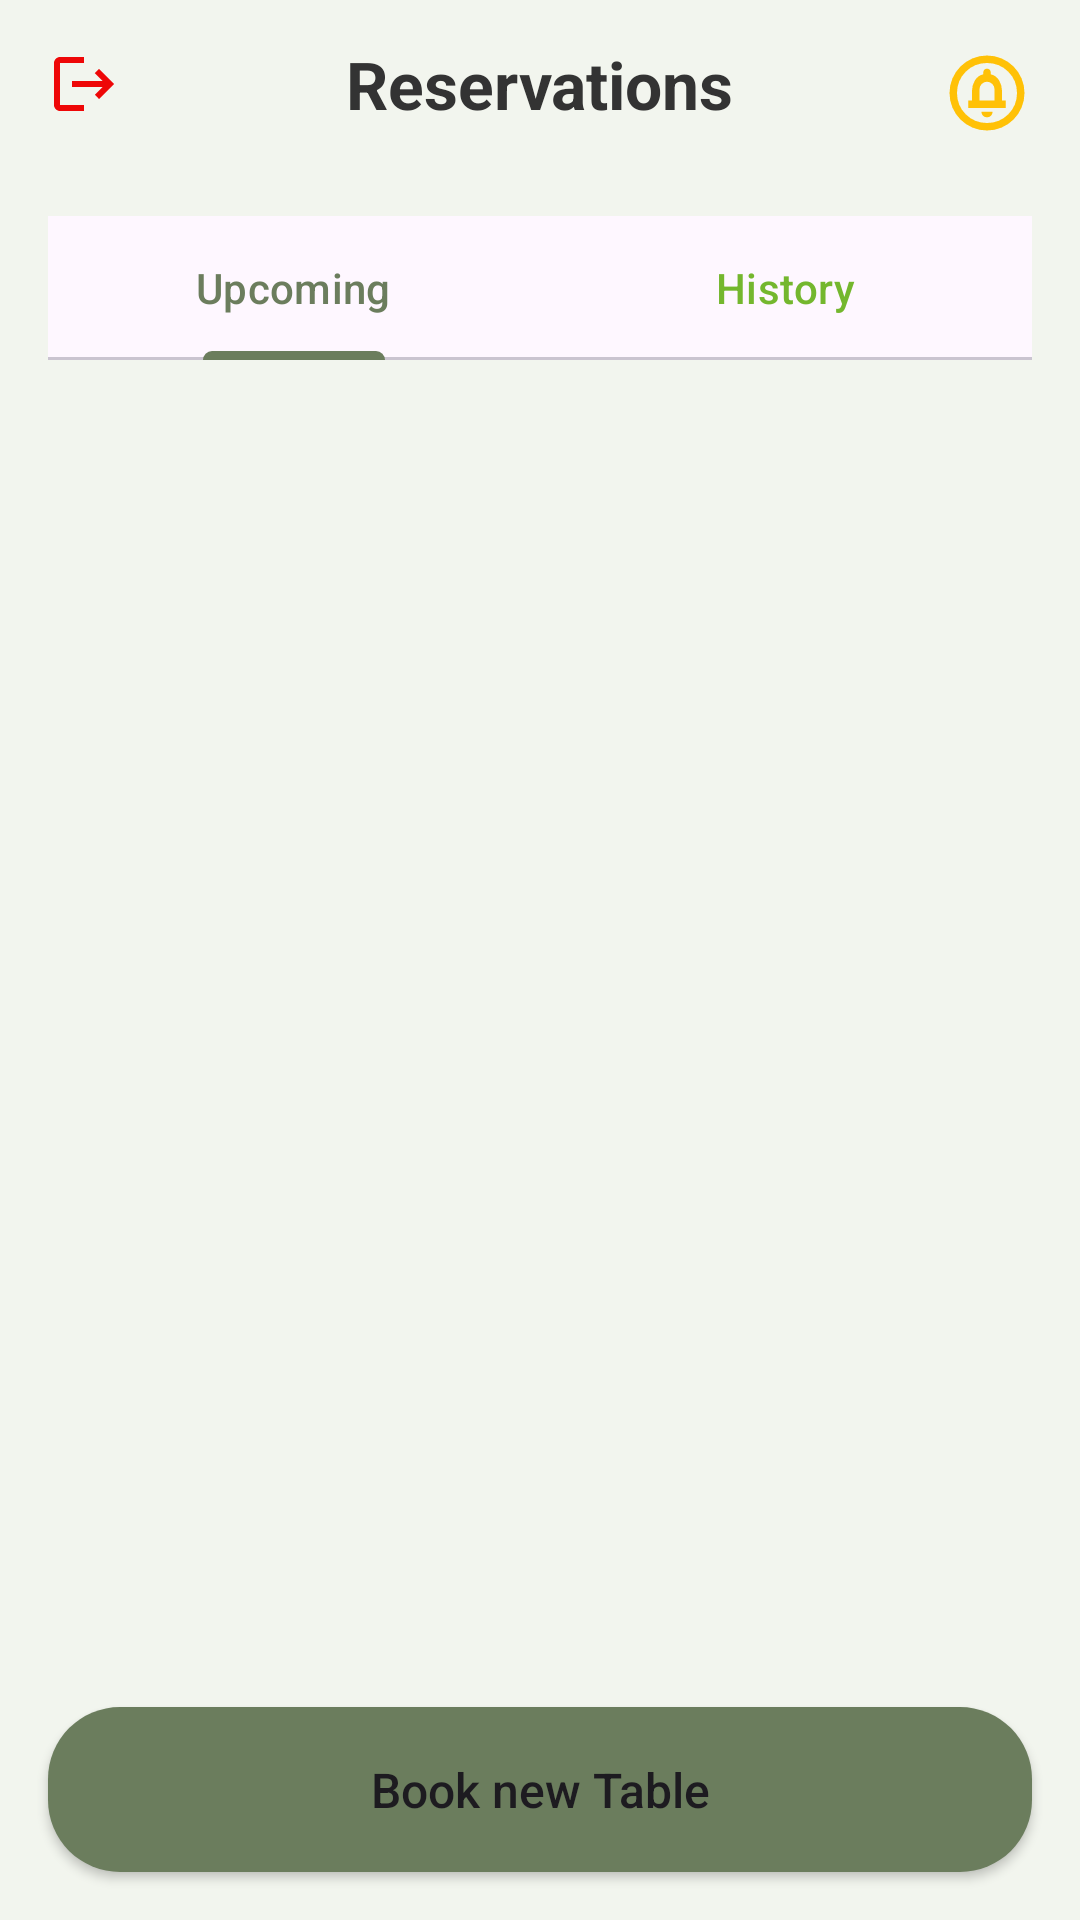

Icon click points for this 1080w x 1920h phone screenshot, format [x,y]:
Notifications: [987,93]
